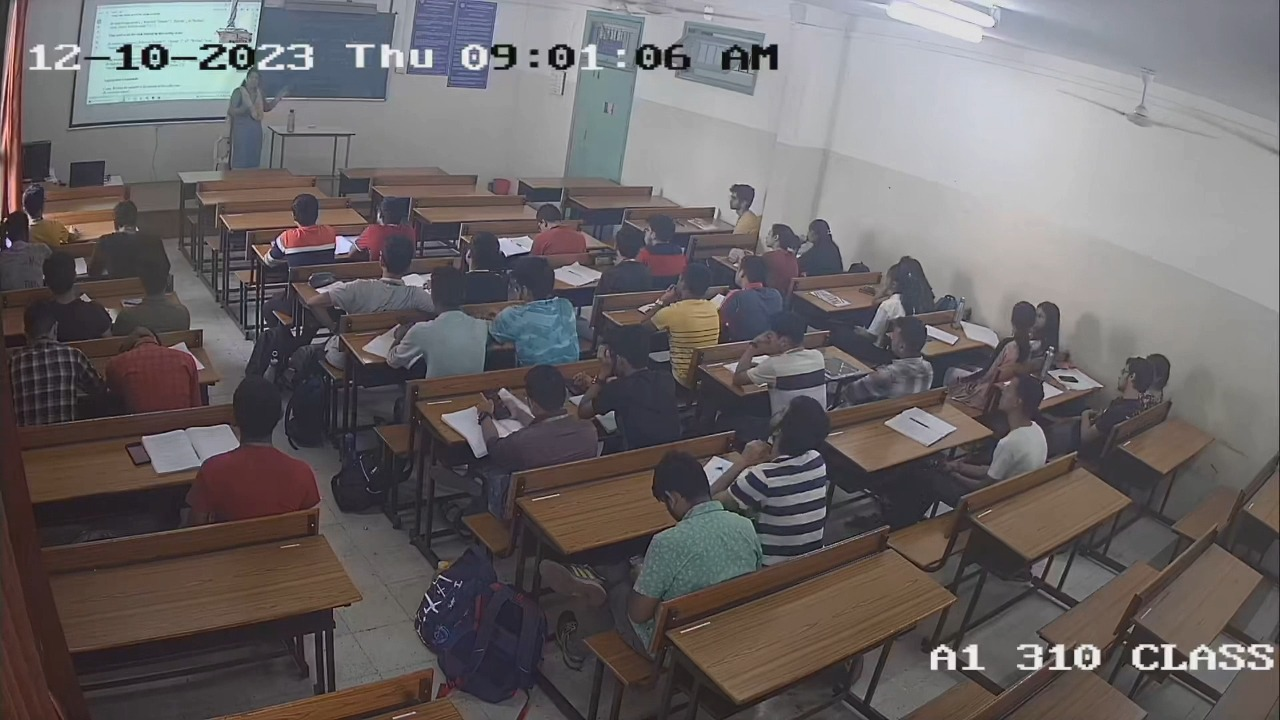cell-phones: (481, 387, 513, 422), (124, 440, 153, 468), (564, 381, 587, 398), (1056, 373, 1081, 385), (592, 255, 617, 267), (858, 284, 877, 297)
person: (182, 378, 319, 519), (484, 365, 600, 460), (584, 325, 675, 443), (1082, 357, 1155, 427), (598, 223, 654, 292), (870, 260, 922, 318)
